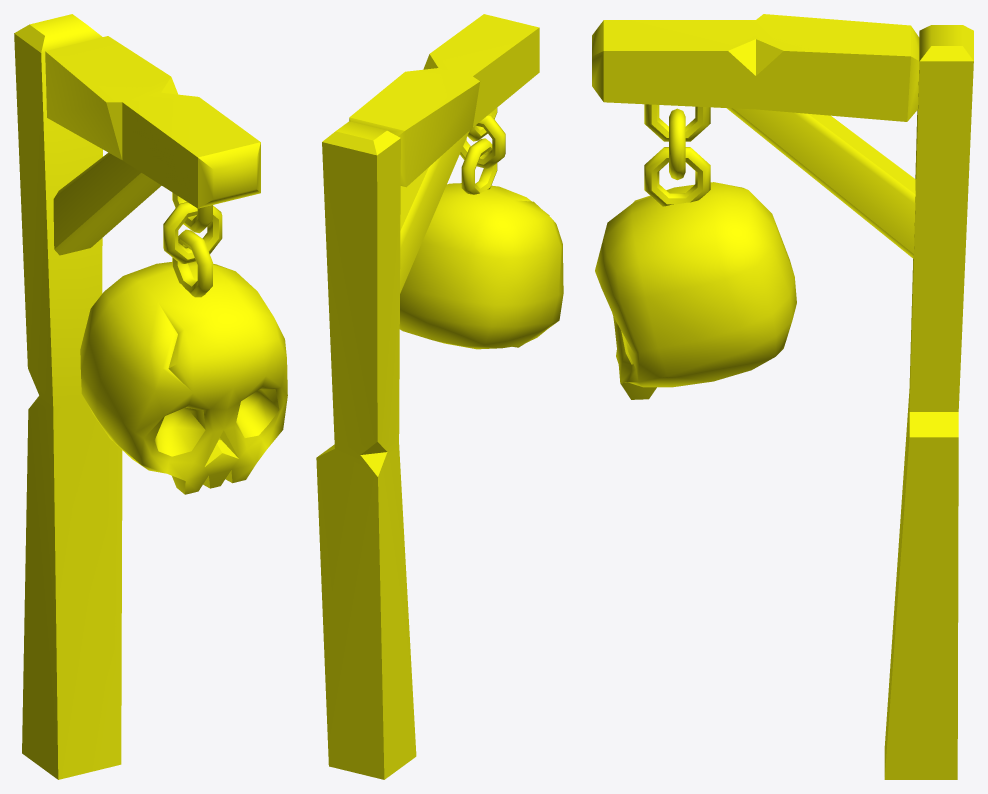
Rendered from kaykit-post-skull.glb.
3 renders of one model, left to right at view 1: azimuth 30°, elevation 25°; view 2: azimuth 150°, elevation 25°; view 3: azimuth 270°, elevation 25°, orthographic. The views are drawn at different scales.
Visible parts, largest first — view 1: post_skull; view 2: post_skull; view 3: post_skull.
Part boxes in pixels (box(x1,y1,x2,y2)): post_skull: box(14, 14, 287, 779); post_skull: box(316, 14, 563, 779); post_skull: box(592, 14, 973, 779).
Bounding box in the file's own units: 0.8089 × 3.3 × 1.57.
